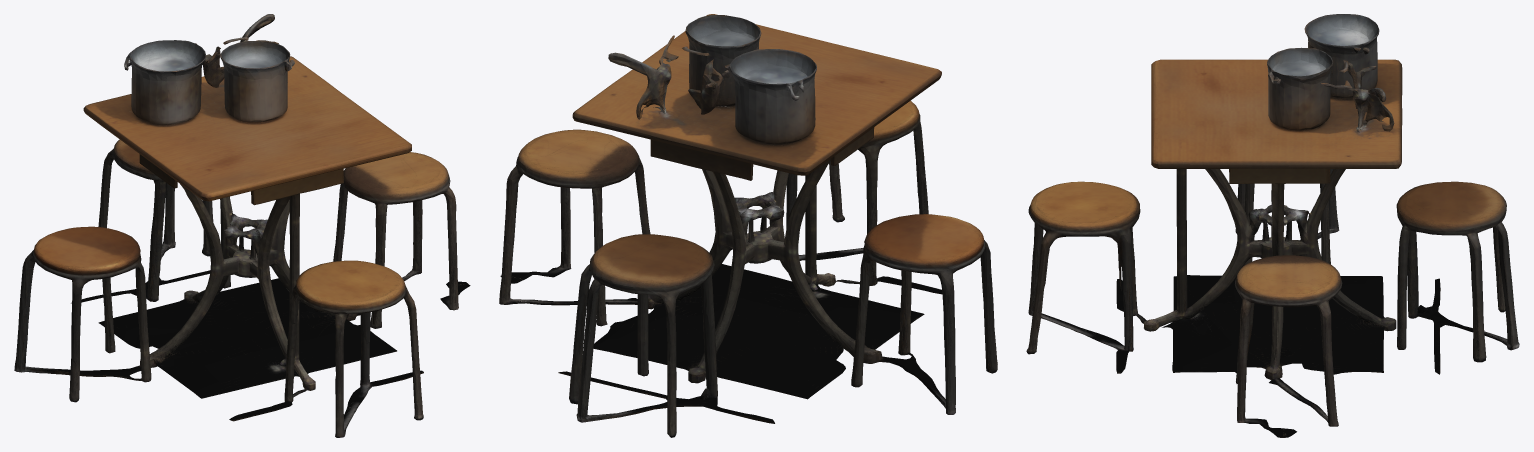
3 renders of one model, left to right at view 1: azimuth 30°, elevation 25°; view 2: azimuth 150°, elevation 25°; view 3: azimuth 270°, elevation 25°, orthographic. The views are drawn at different scales.
Parts seen in each view (by area): view 1: world; view 2: world; view 3: world.
Part boxes in pixels (box(x1,y1,x2,y2)): world: box(14, 14, 470, 437); world: box(499, 14, 997, 437); world: box(1026, 14, 1519, 437).
Bounding box in the file's own units: 95.45 × 59.07 × 94.49.
1 material, 1 textured.
